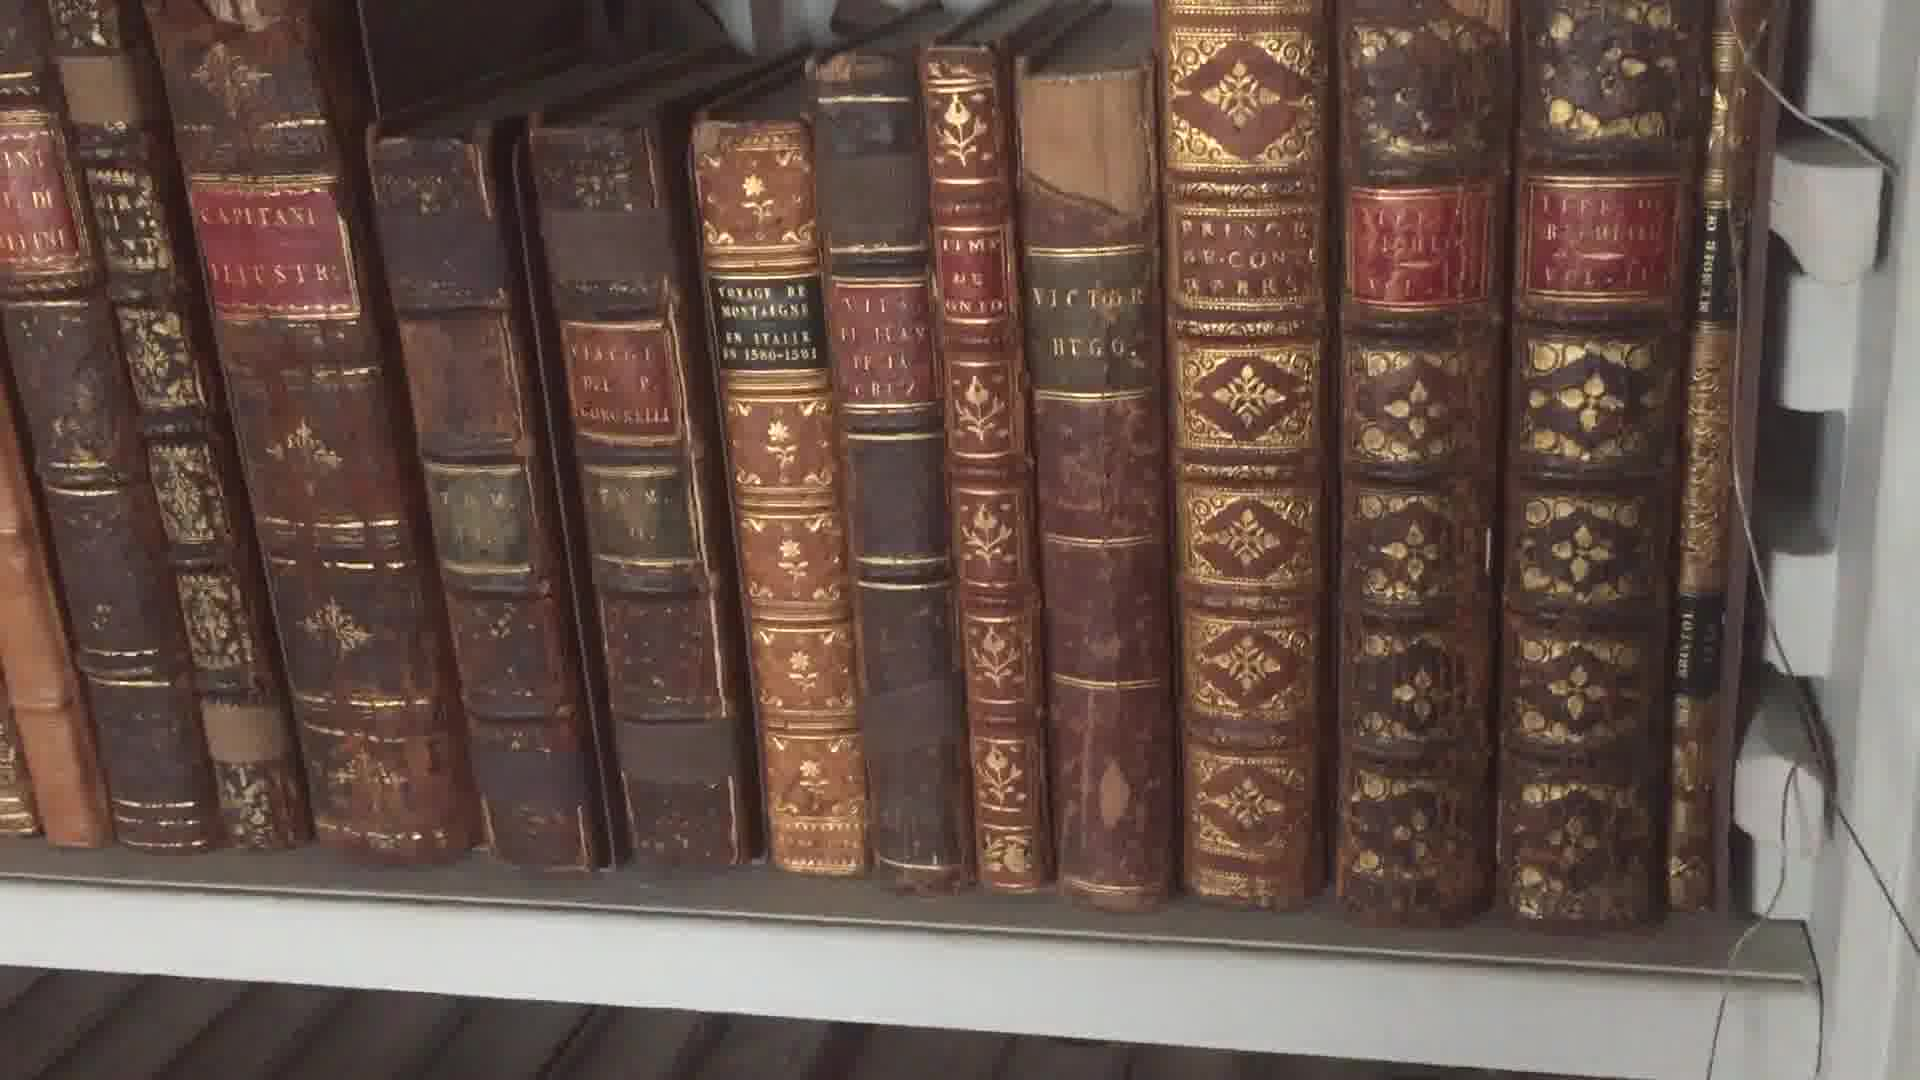Aa6-38: (164, 18, 506, 856)
Aa6-39_40: (348, 100, 767, 878)
Aa6-41: (690, 107, 865, 902)
Aa6-42: (790, 69, 1004, 885)
Aa6-43: (913, 51, 1038, 890)
Aa6-44: (1007, 36, 1172, 913)
Aa6-45: (1172, 7, 1319, 905)
Aa6-46-47: (1336, 18, 1648, 931)
Aa6-48: (1640, 1, 1775, 939)
